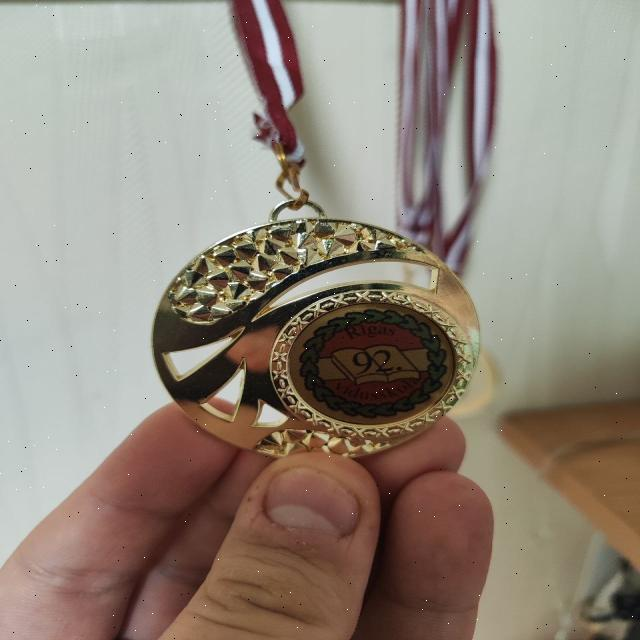Circle: (148, 219, 487, 468), (271, 285, 477, 441)
